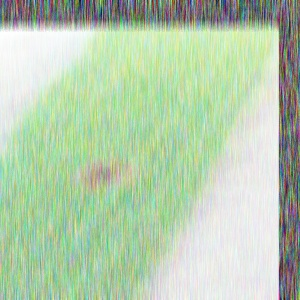Bacterial_Leaf_Blight: (76, 154, 141, 193)
